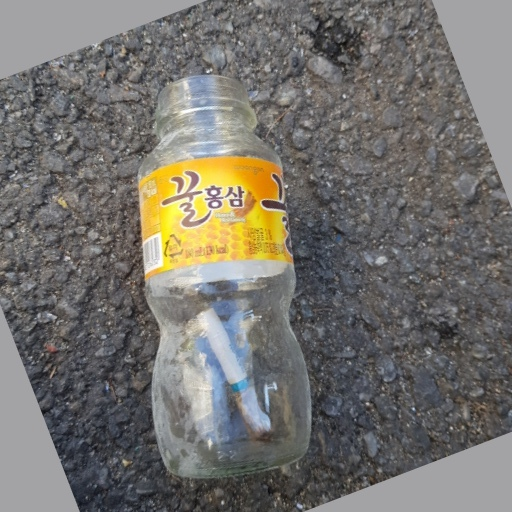Glass_4: (131, 75, 313, 477)
